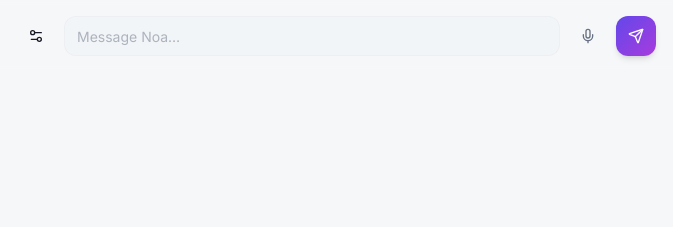
Test: ChatComposer — provider filtering by privacy_mode › shows only ollama provider when privacy_mode=private
The image size is (673, 227).
Open advanced panel
Click the button named "Advanced settings". click: (36, 36)
box: [16,16,56,56]
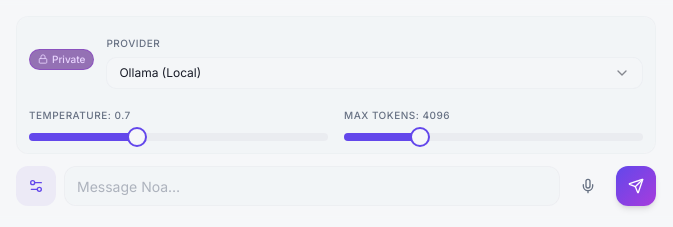
Result: the element with test id "domain-badge-private" is shown at [29,48,94,70]
Result: the dropdown with test id "provider-select-trigger" is shown
Click the dropdown with test id "provider-select-trigger". click: (160, 72)
box: [106,57,643,89]
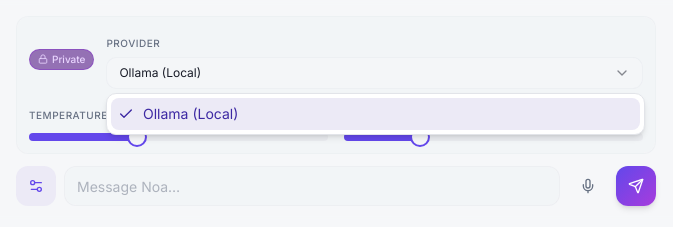
Result: the option with test id "provider-option-ollama" is shown at [111,98,640,130]
